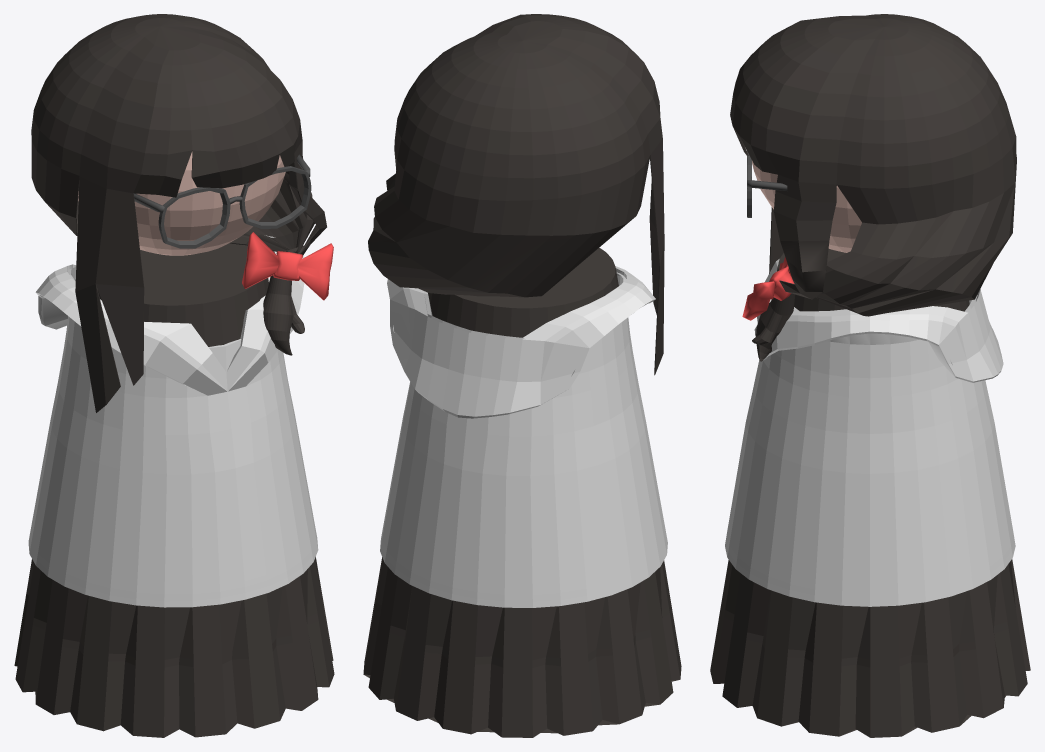
The model's file is char_librarian.fbx.
3 views of the same model, side by side, from view 1: azimuth 30°, elevation 25°; view 2: azimuth 150°, elevation 25°; view 3: azimuth 270°, elevation 25° (orthographic).
Visible parts, largest first — view 1: lib_shirt, lib_body, lib_body.001; view 2: lib_shirt, lib_body.001, lib_body; view 3: lib_shirt, lib_body.001, lib_body.
Boxes of the visible parts, left/top/right/bottom form: lib_shirt: left=28, top=235, right=318, bottom=607; lib_body: left=14, top=151, right=334, bottom=737; lib_body.001: left=31, top=14, right=326, bottom=412; lib_shirt: left=380, top=266, right=667, bottom=607; lib_body.001: left=368, top=14, right=664, bottom=375; lib_body: left=363, top=158, right=681, bottom=737; lib_shirt: left=725, top=259, right=1015, bottom=606; lib_body.001: left=730, top=14, right=1016, bottom=361; lib_body: left=710, top=151, right=1030, bottom=737.
Bounding box in the file's own units: 0.6921 × 1.53 × 0.6921.
